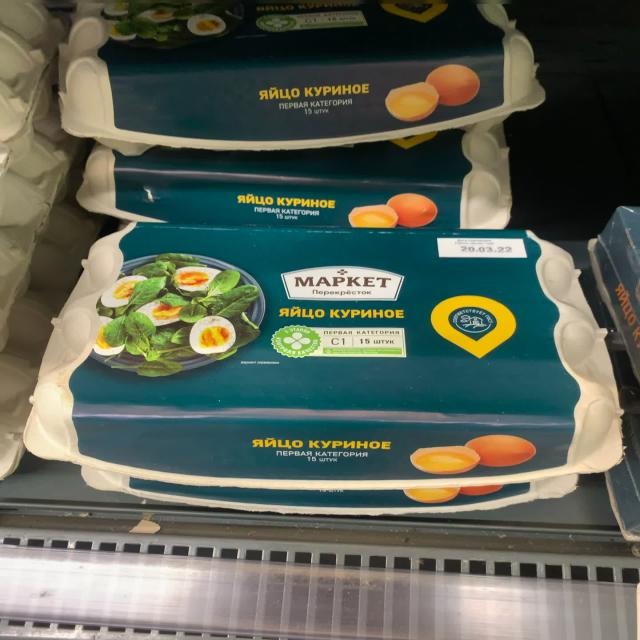egg box: (23, 232, 621, 491), (53, 11, 545, 153), (76, 138, 512, 230)
